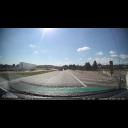speed_limit_40: (97, 63, 102, 69)
